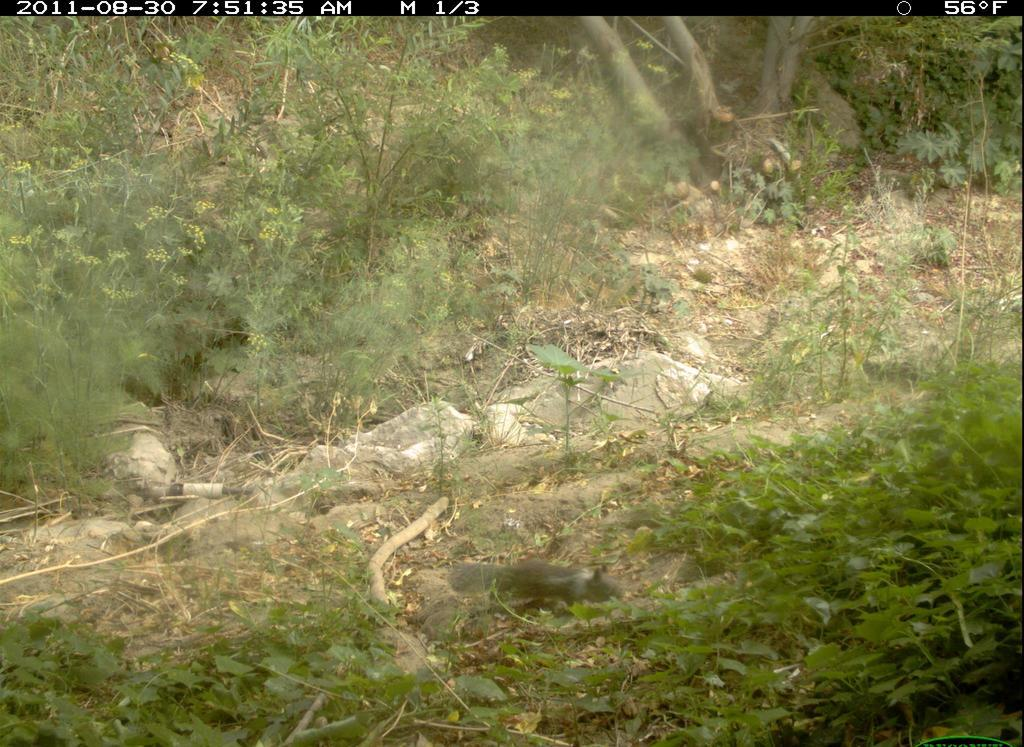squirrel: (446, 551, 633, 620)
